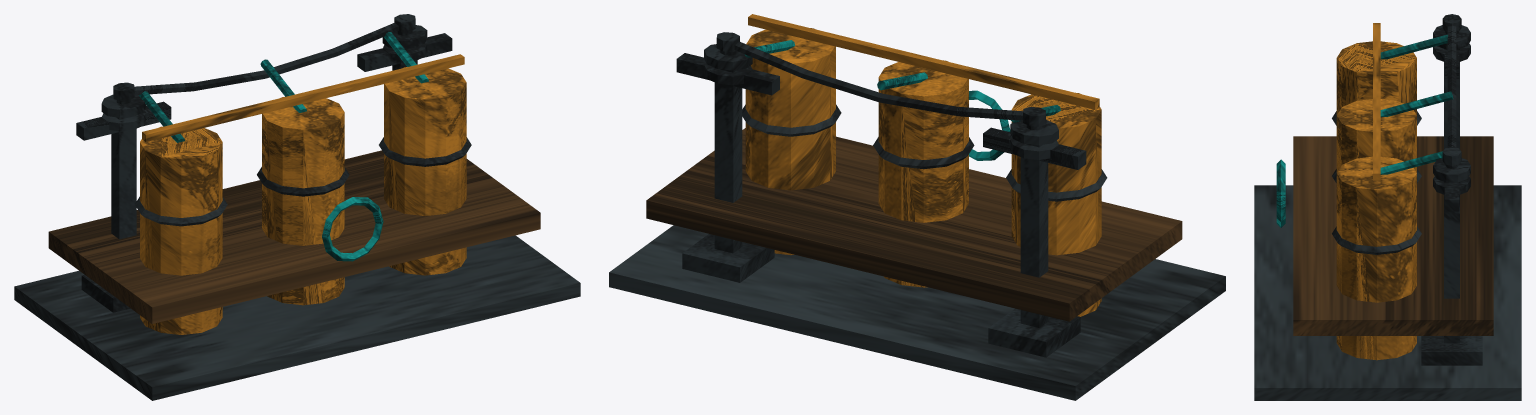
The model's file is breath-bank-service-rack.glb.
3 renders of one model, left to right at view 1: azimuth 30°, elevation 25°; view 2: azimuth 150°, elevation 25°; view 3: azimuth 270°, elevation 25°, orthographic. The views are drawn at different scales.
Visible parts, largest first — view 1: breath-bank-service-rack; view 2: breath-bank-service-rack; view 3: breath-bank-service-rack.
Boxes of the visible parts, <box> form: breath-bank-service-rack: <box>14,14,580,400</box>; breath-bank-service-rack: <box>609,14,1225,400</box>; breath-bank-service-rack: <box>1254,14,1521,400</box>.
Bounding box in the file's own units: 8.6 × 4.25 × 4.8.
Materials: 1 (1 with a texture image).
